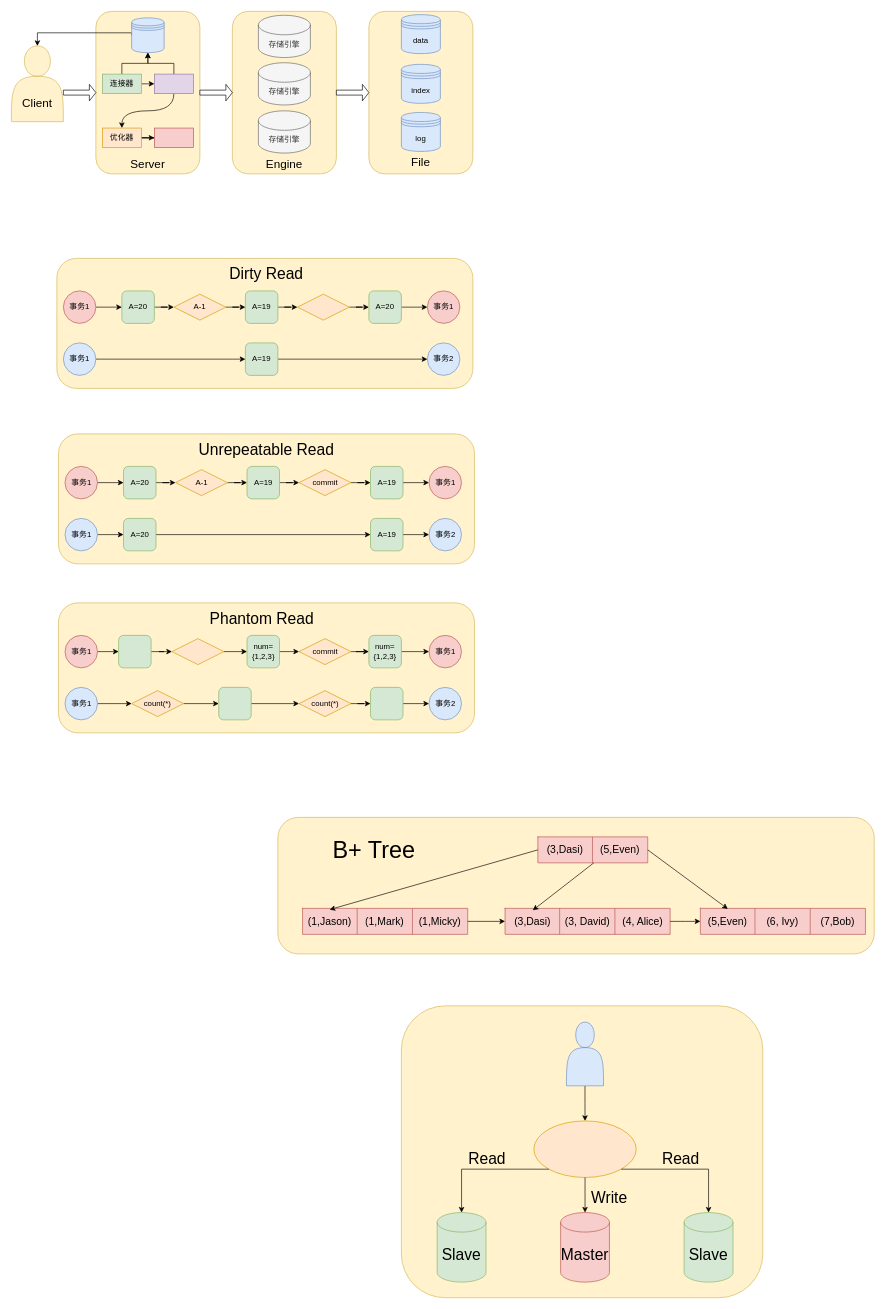
This 886x1309 diagram has some shape labels left out. Here are the shapes that lost their labels. From the top down, the centre of each, then its label:
the point at 147,35: cache
the point at 173,83: 分析器
the point at 173,137: 执行器
the point at 323,306: rollback
the point at 134,651: num={1,2}
the point at 197,651: insert 3
the point at 234,703: count=2
the point at 386,703: count=3
the point at 584,1148: 负载均衡代理
